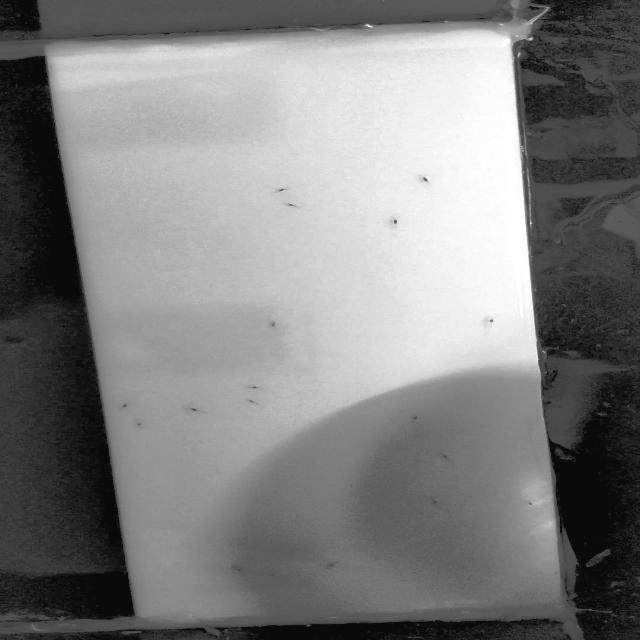shrimp: (220, 374, 275, 397), (253, 313, 296, 338), (396, 402, 434, 430), (410, 489, 455, 512), (378, 213, 426, 232), (397, 170, 443, 188), (430, 443, 462, 468), (472, 312, 509, 331), (260, 183, 304, 198), (214, 561, 252, 578), (321, 553, 348, 574), (266, 566, 292, 585), (112, 400, 139, 416), (182, 401, 208, 414), (124, 418, 152, 430), (517, 496, 541, 509), (235, 398, 272, 406), (282, 201, 306, 212)
